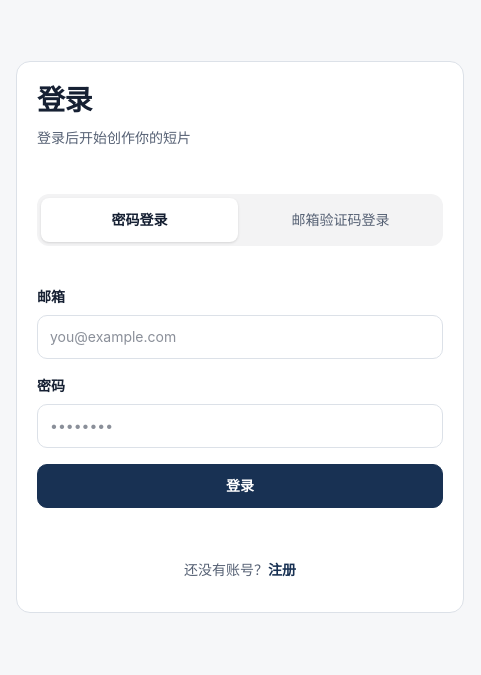
auth_field_errors_are_accessible
Type "test@example.com" into the field labelled "邮箱". click: x=240, y=337
box: 37,315 -> 443,359
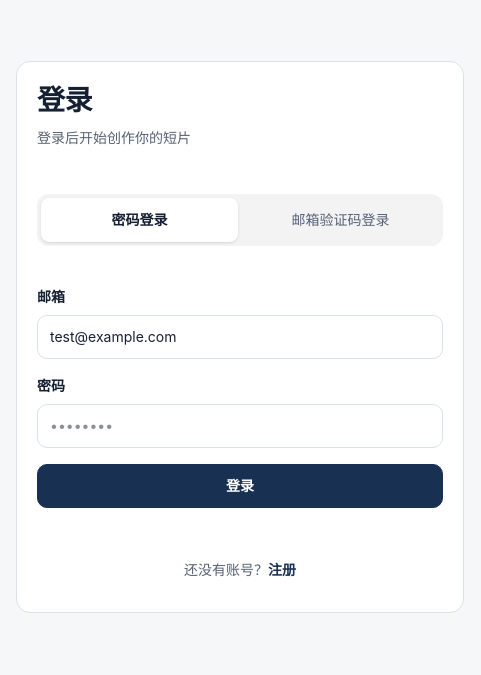
Type "test-pass" into the password field labelled "密码". click: x=240, y=426
box: 37,404 -> 443,448
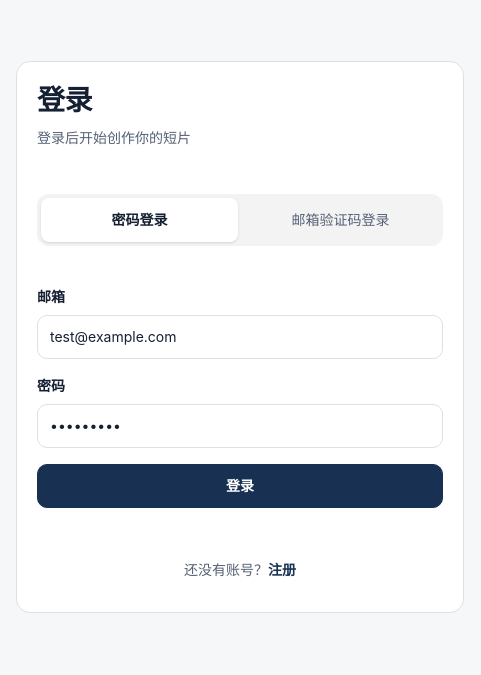
Submit the form "登录", box 37,286 -> 443,508
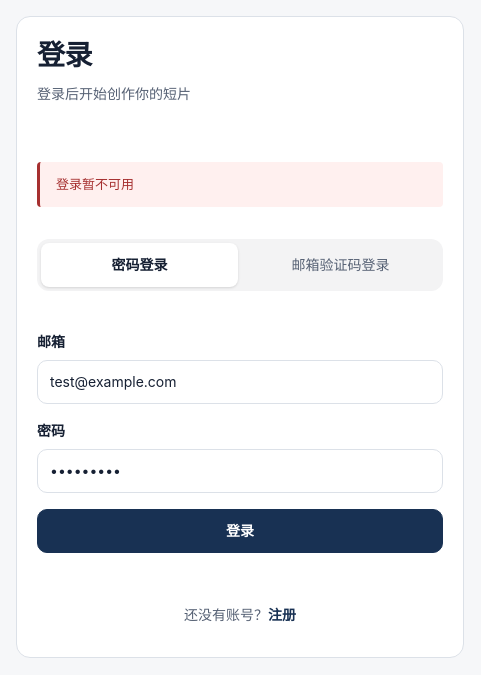
Expected: the heading reads "登录", 37,38 -> 92,72
Now the message reads "登录暂不可用", box 56,176 -> 134,192
